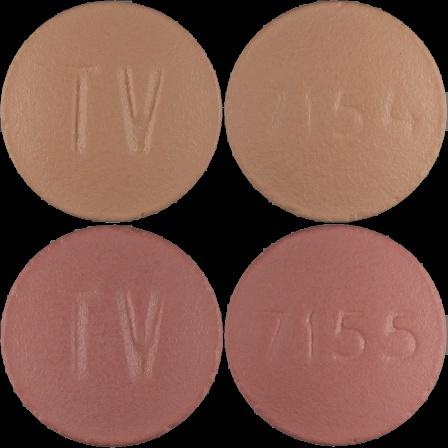51079-455: (0, 0, 224, 224)
